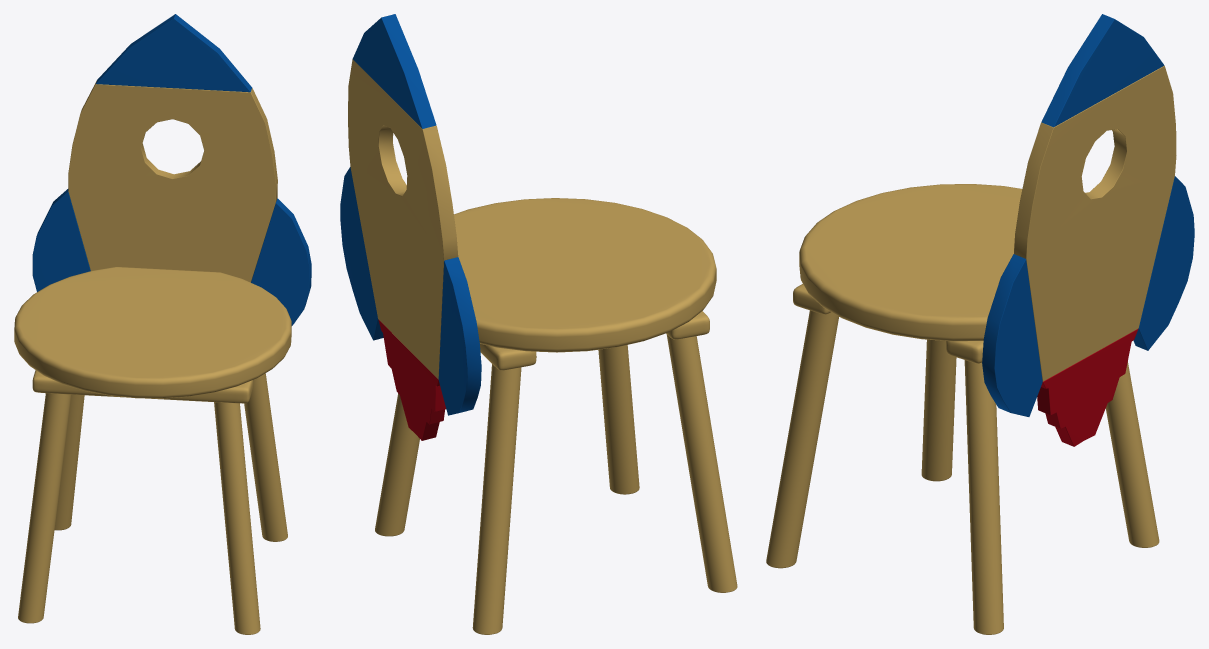
Rendered from sediarazzo_LOD1.fbx.
3 renders of one model, left to right at view 1: azimuth 30°, elevation 25°; view 2: azimuth 150°, elevation 25°; view 3: azimuth 270°, elevation 25°, orthographic. The views are drawn at different scales.
Visible parts, largest first — view 1: sediarazzo; view 2: sediarazzo; view 3: sediarazzo.
Part boxes in pixels (<box>): sediarazzo: <box>14,14,311,634</box>; sediarazzo: <box>340,14,737,634</box>; sediarazzo: <box>766,14,1194,634</box>.
Size of the model in its own units: 165 by 246 by 164.
